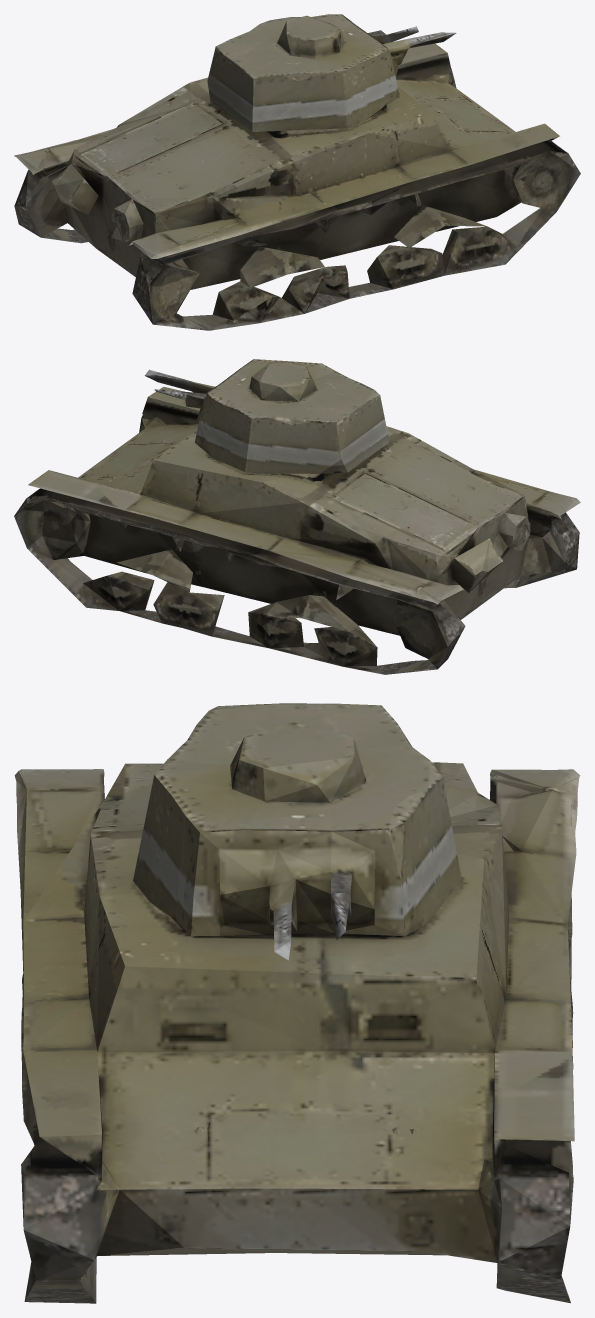
The model's file is both.obj.
3 renders of one model, top to bottom at view 1: azimuth 30°, elevation 25°; view 2: azimuth 150°, elevation 25°; view 3: azimuth 270°, elevation 25°, orthographic. The views are drawn at different scales.
Parts seen in each view (by area): view 1: turret.obj; view 2: turret.obj; view 3: turret.obj.
Boxes of the visible parts, <box> form: turret.obj: <box>14,14,580,330</box>; turret.obj: <box>14,359,580,674</box>; turret.obj: <box>14,703,580,1303</box>.
Size of the model in its own units: 1 by 0.4797 by 0.564.
Materials: 1 (1 with a texture image).
